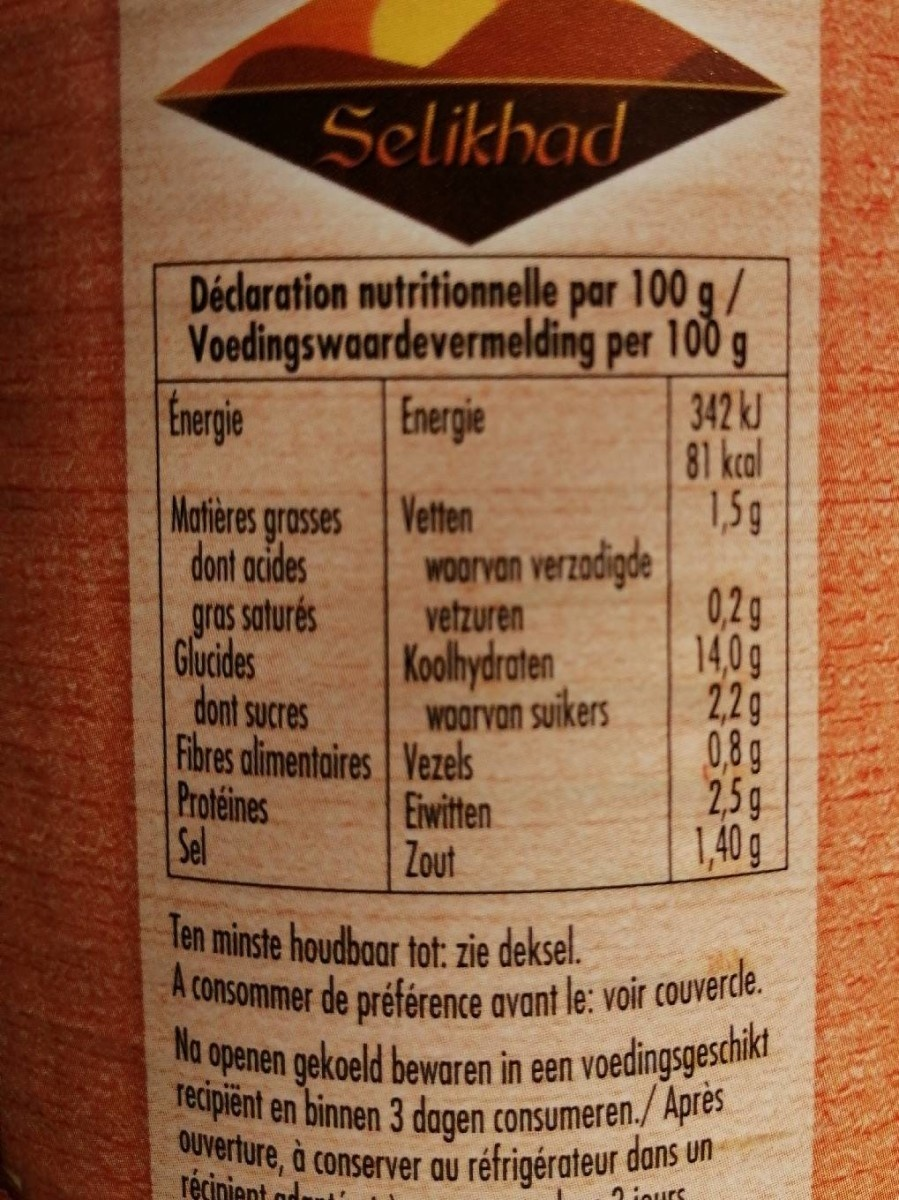column: (402, 390, 655, 884), (168, 390, 371, 881), (681, 392, 764, 874)
table: (150, 255, 793, 894)
